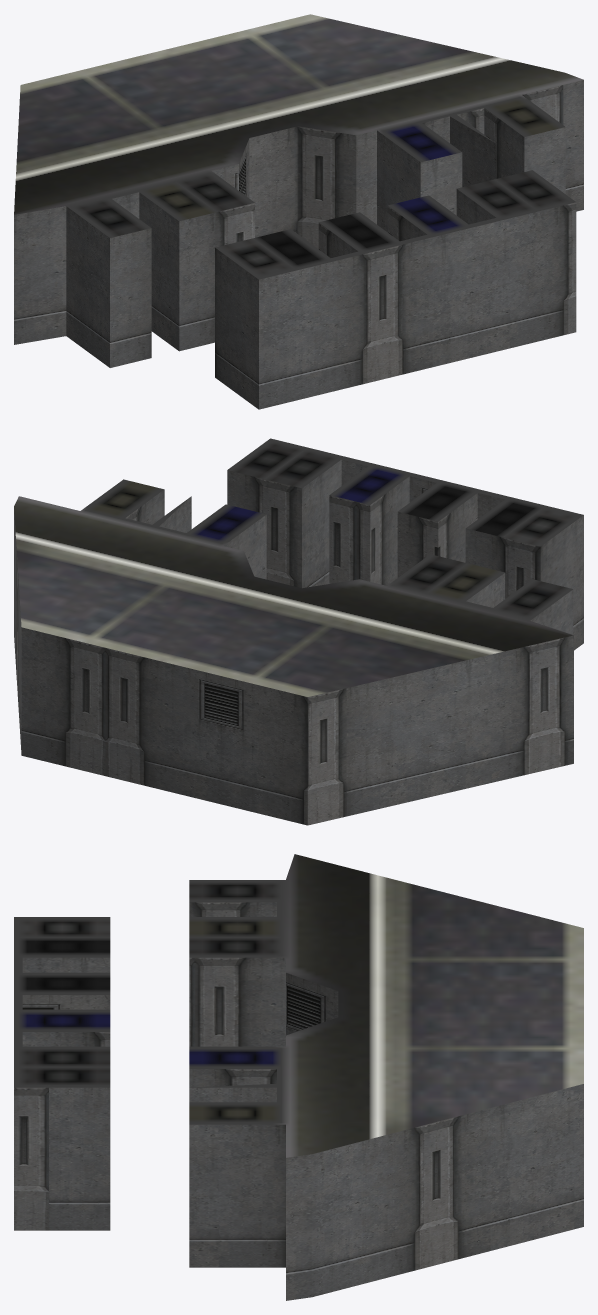
File: BuildingSystem-03-Advance-04-ReinforcedMedium-9-120-04.glb
3 views of the same model, one above another, from view 1: azimuth 30°, elevation 25°; view 2: azimuth 150°, elevation 25°; view 3: azimuth 270°, elevation 25° (orthographic). The views are drawn at different scales.
Visible parts, largest first — view 1: buildings/saxarba/SMV_Buildings/BuildingSystem-03-Advance-04; view 2: buildings/saxarba/SMV_Buildings/BuildingSystem-03-Advance-04; view 3: buildings/saxarba/SMV_Buildings/BuildingSystem-03-Advance-04.
Part boxes in pixels (x1,y1,x2,y2): buildings/saxarba/SMV_Buildings/BuildingSystem-03-Advance-04: (14,14,583,409); buildings/saxarba/SMV_Buildings/BuildingSystem-03-Advance-04: (14,438,583,825); buildings/saxarba/SMV_Buildings/BuildingSystem-03-Advance-04: (14,854,583,1300).
Bounding box in the file's own units: 82 × 18 × 65.
